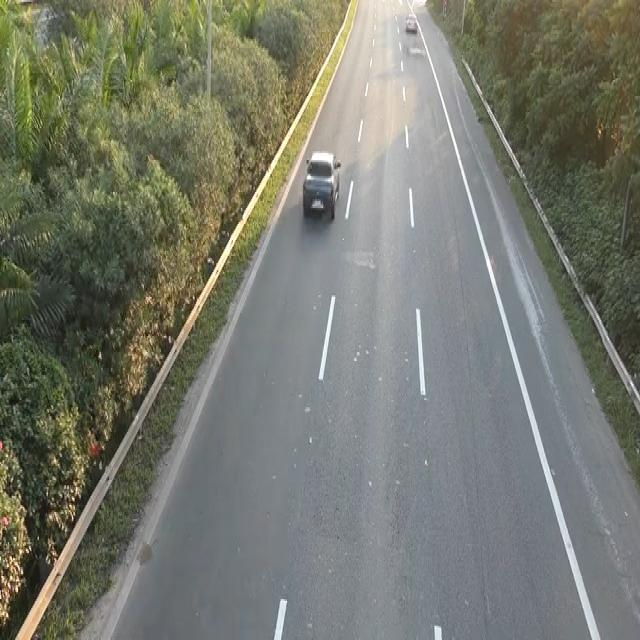car: (301, 148, 342, 222)
